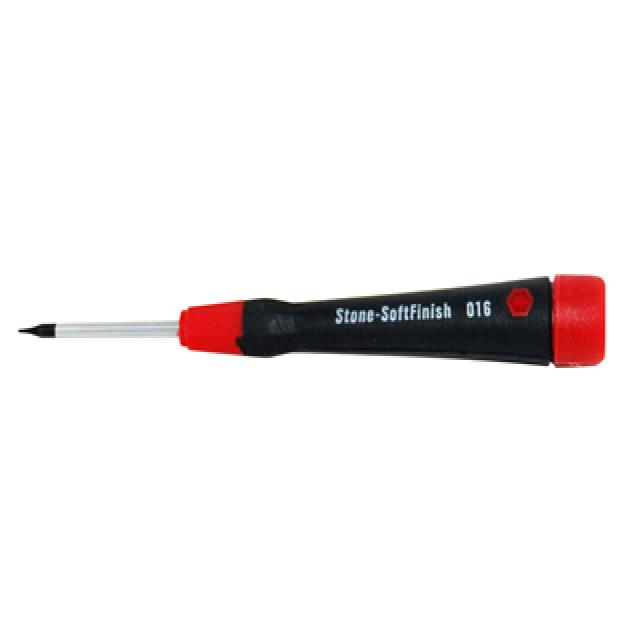screw driver: (0, 240, 640, 417)
